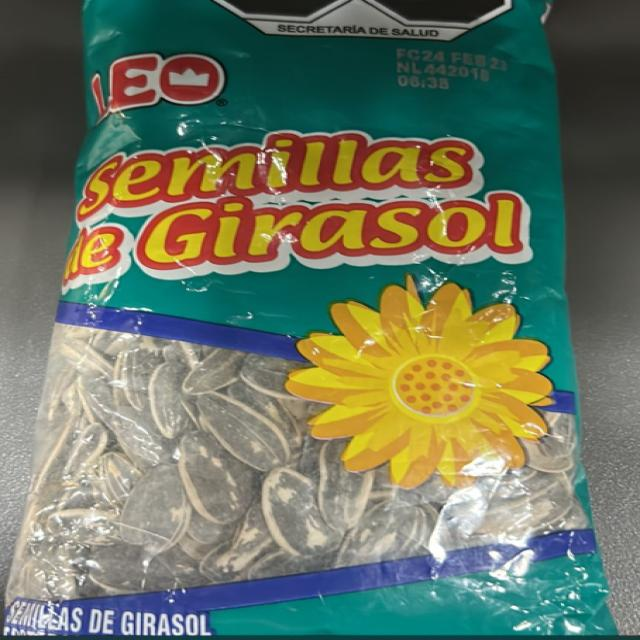semillasGirasol: (86, 9, 562, 633)
